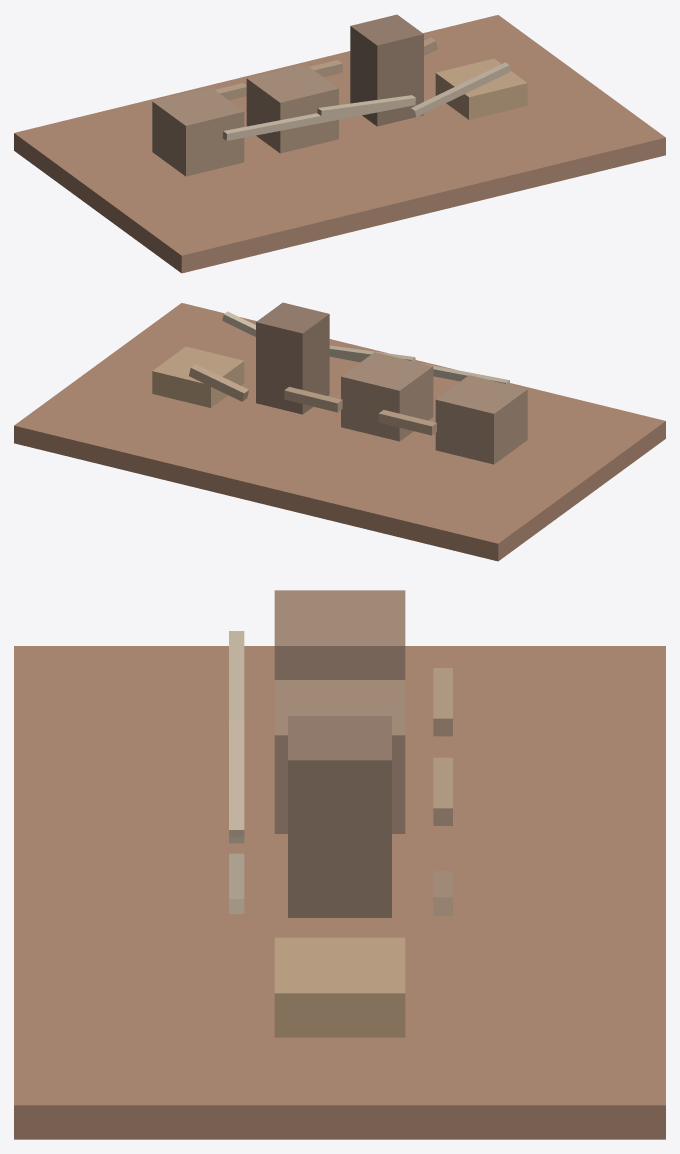
3 renders of one model, top to bottom at view 1: azimuth 30°, elevation 25°; view 2: azimuth 150°, elevation 25°; view 3: azimuth 270°, elevation 25°, orthographic. The views are drawn at different scales.
Parts seen in each view (by area): view 1: substrate: warehouse manipulation cell, [01] data ingestion and labeling pipeline, [03] model + uncertainty quantification, [02] feature / representation layer, [04] deployment target + monitoring loop, control -> [01], control -> [04], control -> [02]; view 2: substrate: warehouse manipulation cell, [03] model + uncertainty quantification, [01] data ingestion and labeling pipeline, [02] feature / representation layer, [04] deployment target + monitoring loop, flow 3 -> 4, control -> [01], flow 1 -> 2, flow 2 -> 3, control -> [04], control -> [02]; view 3: substrate: warehouse manipulation cell, [03] model + uncertainty quantification, [04] deployment target + monitoring loop, [01] data ingestion and labeling pipeline, [02] feature / representation layer, control -> [02], control -> [01], flow 1 -> 2, flow 2 -> 3, control -> [04], flow 3 -> 4.
Part boxes in pixels (bbox=[...]): substrate: warehouse manipulation cell: bbox=[14, 15, 665, 273]; [01] data ingestion and labeling pipeline: bbox=[152, 87, 244, 176]; [03] model + uncertainty quantification: bbox=[350, 14, 423, 126]; [02] feature / representation layer: bbox=[246, 64, 338, 153]; [04] deployment target + monitoring loop: bbox=[435, 58, 527, 119]; control -> [01]: bbox=[222, 98, 415, 140]; control -> [04]: bbox=[411, 62, 510, 117]; control -> [02]: bbox=[317, 95, 415, 117]; substrate: warehouse manipulation cell: bbox=[14, 303, 665, 561]; [03] model + uncertainty quantification: bbox=[256, 302, 329, 414]; [01] data ingestion and labeling pipeline: bbox=[435, 375, 527, 464]; [02] feature / representation layer: bbox=[341, 352, 433, 441]; [04] deployment target + monitoring loop: bbox=[152, 346, 244, 407]; flow 3 -> 4: bbox=[189, 364, 248, 401]; control -> [01]: bbox=[329, 349, 510, 384]; flow 1 -> 2: bbox=[378, 410, 436, 435]; flow 2 -> 3: bbox=[284, 386, 342, 412]; control -> [04]: bbox=[222, 311, 255, 336]; control -> [02]: bbox=[329, 345, 415, 361]; substrate: warehouse manipulation cell: bbox=[14, 646, 665, 1139]; [03] model + uncertainty quantification: bbox=[288, 716, 391, 917]; [04] deployment target + monitoring loop: bbox=[274, 937, 405, 1037]; [01] data ingestion and labeling pipeline: bbox=[274, 590, 405, 679]; [02] feature / representation layer: bbox=[274, 680, 405, 833]; control -> [02]: bbox=[229, 721, 244, 836]; control -> [01]: bbox=[229, 631, 244, 843]; flow 1 -> 2: bbox=[433, 668, 452, 736]; flow 2 -> 3: bbox=[433, 757, 452, 825]; control -> [04]: bbox=[229, 853, 244, 913]; flow 3 -> 4: bbox=[433, 871, 452, 916].
Size of the model in its own units: 10 by 2.2 by 6.
